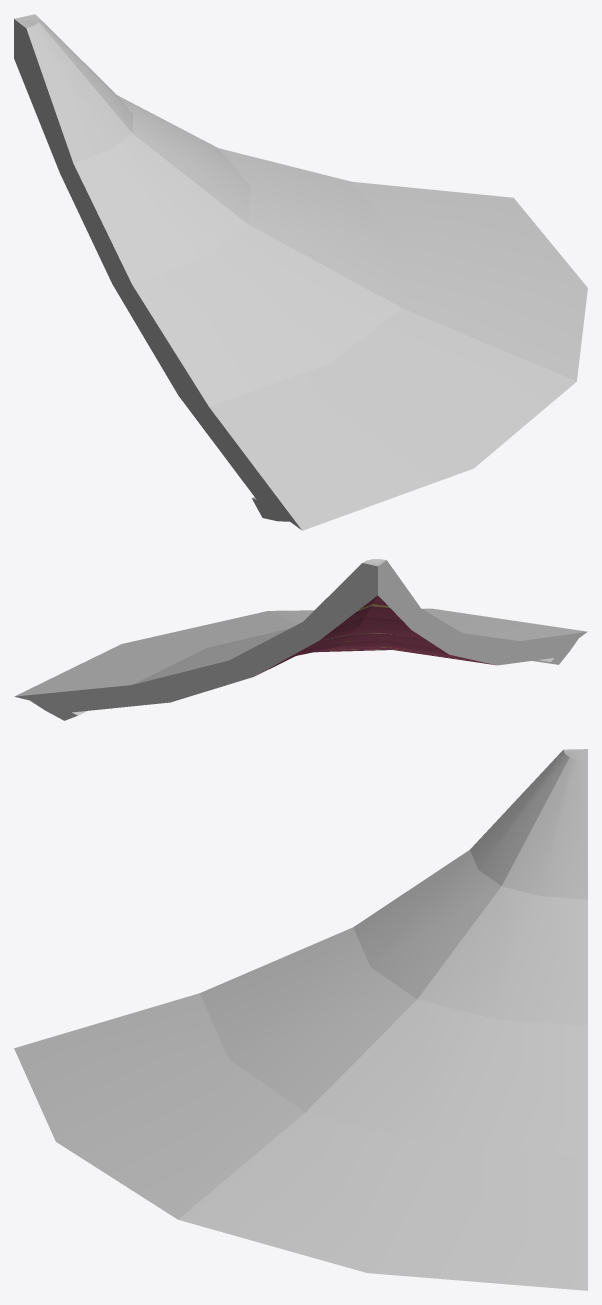
The model's file is SM_Bld_Roof_M_Concave_Corner_Out_02.fbx.
3 renders of one model, top to bottom at view 1: azimuth 30°, elevation 25°; view 2: azimuth 150°, elevation 25°; view 3: azimuth 270°, elevation 25°, orthographic. The views are drawn at different scales.
Parts seen in each view (by area): view 1: SM_Bld_Roof_M_Concave_Corner_Out_02; view 2: SM_Bld_Roof_M_Concave_Corner_Out_02; view 3: SM_Bld_Roof_M_Concave_Corner_Out_02.
Part boxes in pixels (box(x1,y1,x2,y2)): SM_Bld_Roof_M_Concave_Corner_Out_02: box(14, 14, 587, 530); SM_Bld_Roof_M_Concave_Corner_Out_02: box(14, 559, 587, 720); SM_Bld_Roof_M_Concave_Corner_Out_02: box(14, 749, 587, 1290).
Size of the model in its own units: 261 by 158 by 261.
